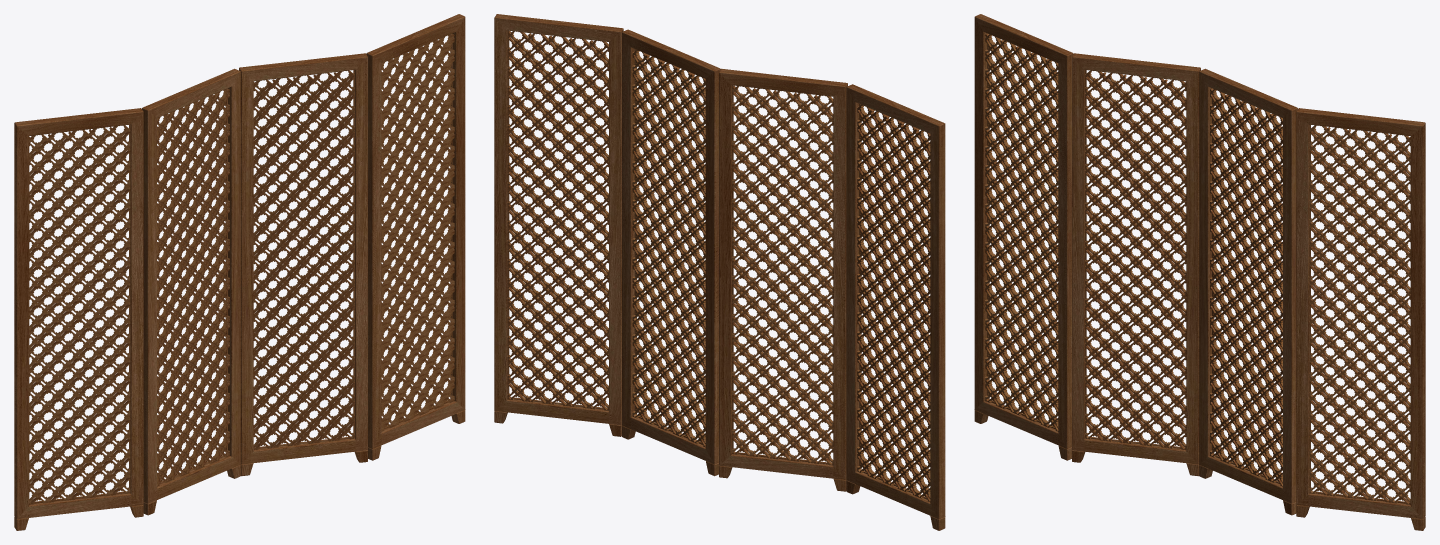
File: chinese_partition.dae
3 views of the same model, side by side, from view 1: azimuth 30°, elevation 25°; view 2: azimuth 150°, elevation 25°; view 3: azimuth 330°, elevation 25° (orthographic).
Visible parts, largest first — view 1: group_3 (×5); view 2: group_3 (×6); view 3: group_3 (×5).
Part boxes in pixels (bbox=[...]): group_3 (×5): bbox=[14, 14, 465, 519]; group_3 (×6): bbox=[494, 14, 945, 519]; group_3 (×5): bbox=[974, 14, 1425, 519].
Bounding box in the file's own units: 77.57 × 6.43 × 66.93.
